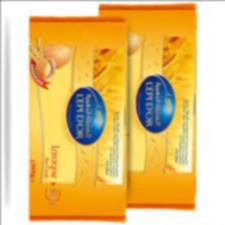lasagne: (101, 3, 197, 207), (29, 18, 124, 221)
